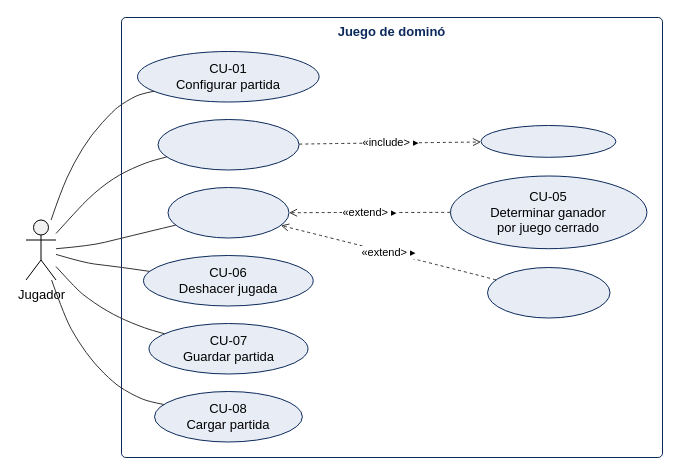
This 680x475 diagram has some shape labels left out. The box of each missing label's shape, as (x1, y1, x2, y2) in pixels:
CU-02 Iniciar partida: (157, 118, 299, 170)
CU-03 Jugar ficha: (167, 186, 289, 238)
CU-04 Robar ficha: (486, 266, 610, 318)
Repartir fichas: (480, 124, 616, 157)
